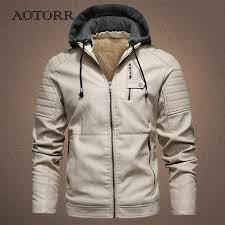jacket: (19, 8, 205, 222)
